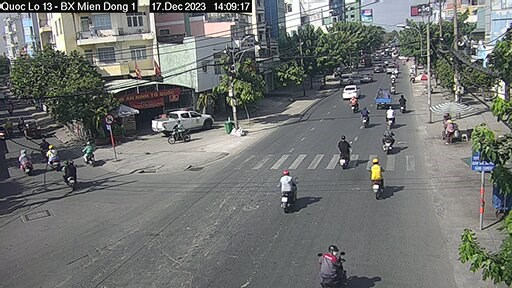car: (152, 107, 214, 133), (342, 84, 362, 99)
motorbike: (315, 244, 350, 288), (333, 129, 353, 170), (279, 171, 296, 210), (367, 160, 386, 193), (166, 123, 193, 146), (59, 160, 78, 189), (382, 119, 397, 153), (81, 142, 98, 170), (46, 143, 60, 170), (18, 150, 31, 176), (388, 106, 397, 126), (362, 106, 370, 125), (350, 96, 358, 112)
truck: (375, 88, 396, 112)
